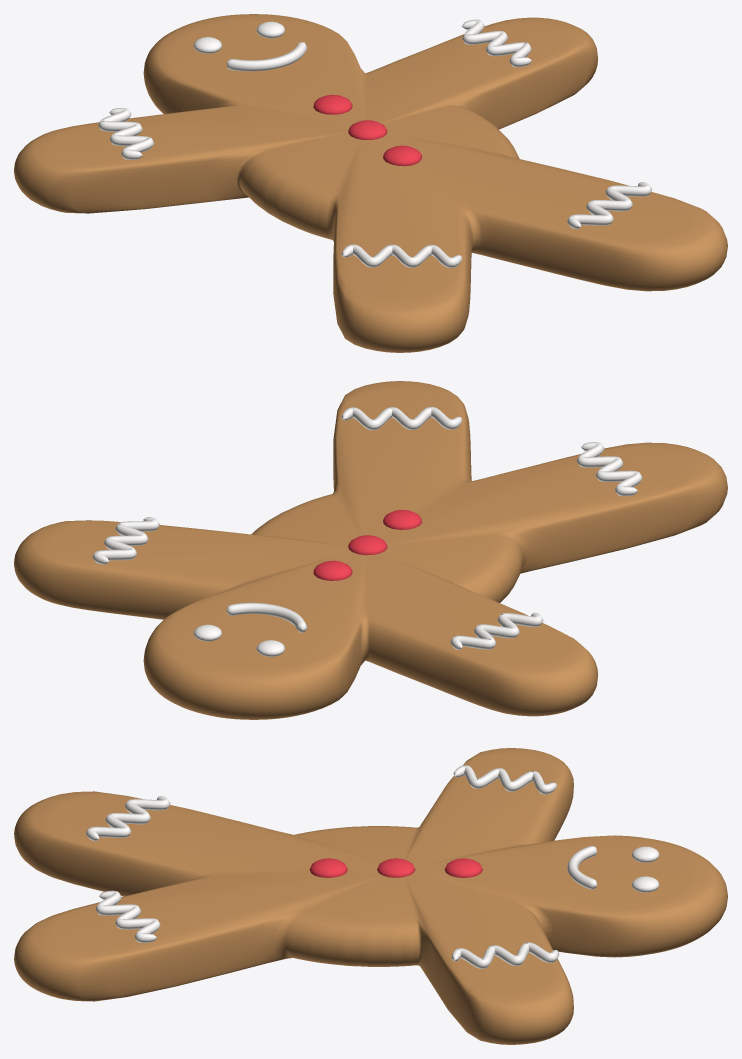
The model's file is gingerbread.glb.
The picture shows the model from 3 angles, top to bottom: view 1: azimuth 30°, elevation 25°; view 2: azimuth 150°, elevation 25°; view 3: azimuth 270°, elevation 25°; orthographic projection. The views are drawn at different scales.
Visible parts, largest first — view 1: Cookie, Icing, Buttons; view 2: Cookie, Icing, Buttons; view 3: Cookie, Icing, Buttons.
Boxes of the visible parts, x1,y1,x2,y2 form: Cookie: (14,14,727,352); Icing: (98,19,651,267); Buttons: (313,94,421,166); Cookie: (14,381,727,719); Icing: (92,406,642,656); Buttons: (313,510,421,580); Cookie: (14,748,727,1044); Icing: (86,765,659,968); Buttons: (309,858,482,877).
Bounding box in the file's own units: 0.1227 × 0.0119 × 0.1374.
